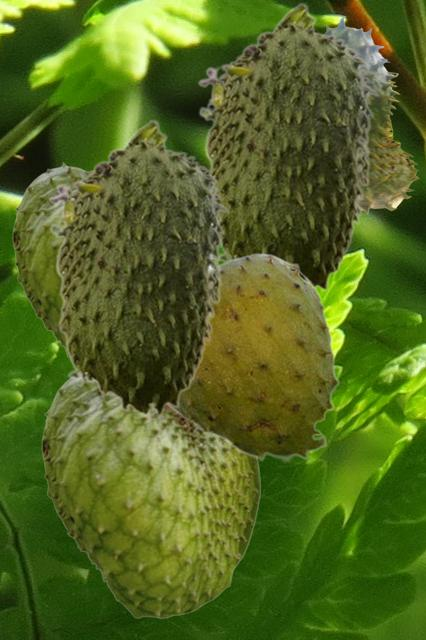guyabano: (49, 119, 229, 416), (41, 379, 260, 618), (198, 2, 378, 292), (168, 252, 339, 463), (325, 16, 418, 214), (12, 161, 91, 357)
